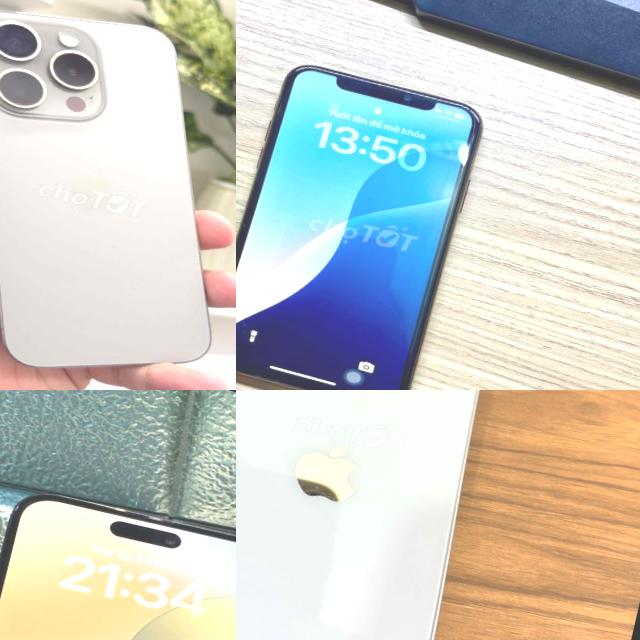gen_14: (236, 390, 523, 640)
gen_15: (0, 0, 236, 390), (0, 466, 236, 640)
gen_x_xs: (236, 41, 503, 390)
scratch: (52, 488, 236, 548)
